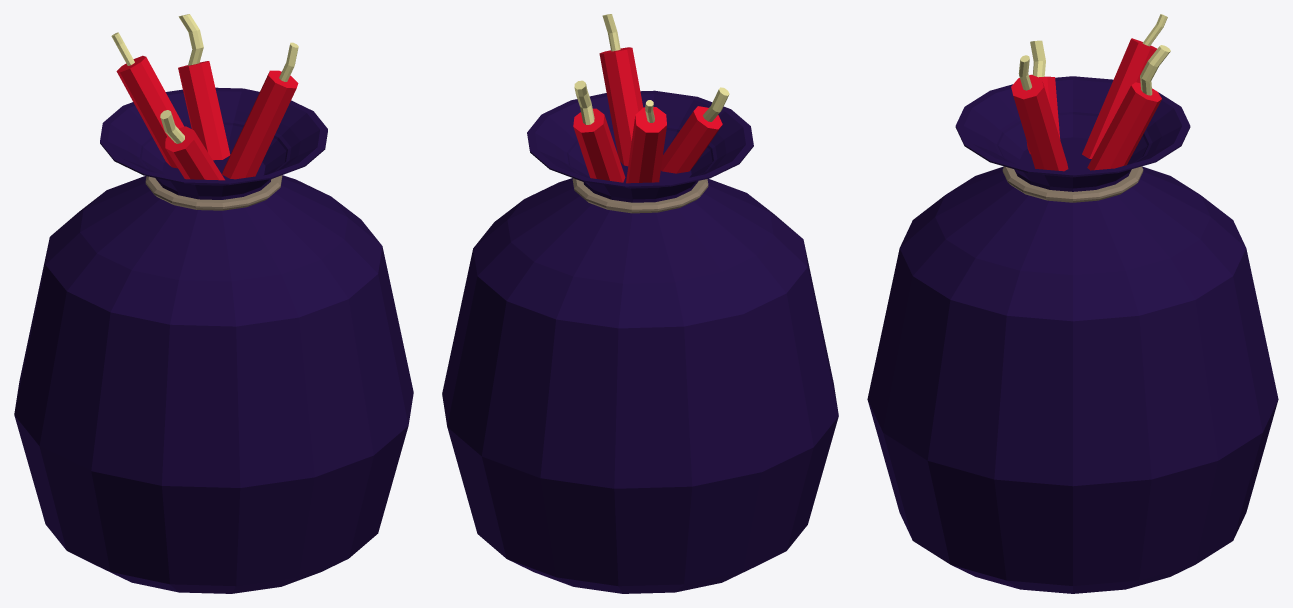
File: TNT_Bag.glb
3 renders of one model, left to right at view 1: azimuth 30°, elevation 25°; view 2: azimuth 150°, elevation 25°; view 3: azimuth 270°, elevation 25°, orthographic. The views are drawn at different scales.
Visible parts, largest first — view 1: TNT_Pouch; view 2: TNT_Pouch; view 3: TNT_Pouch.
Boxes of the visible parts, x1,y1,x2,y2 form: TNT_Pouch: (14,14,413,593); TNT_Pouch: (442,14,838,593); TNT_Pouch: (867,14,1278,593).
Size of the model in its own units: 1.19 by 1.67 by 1.19.
